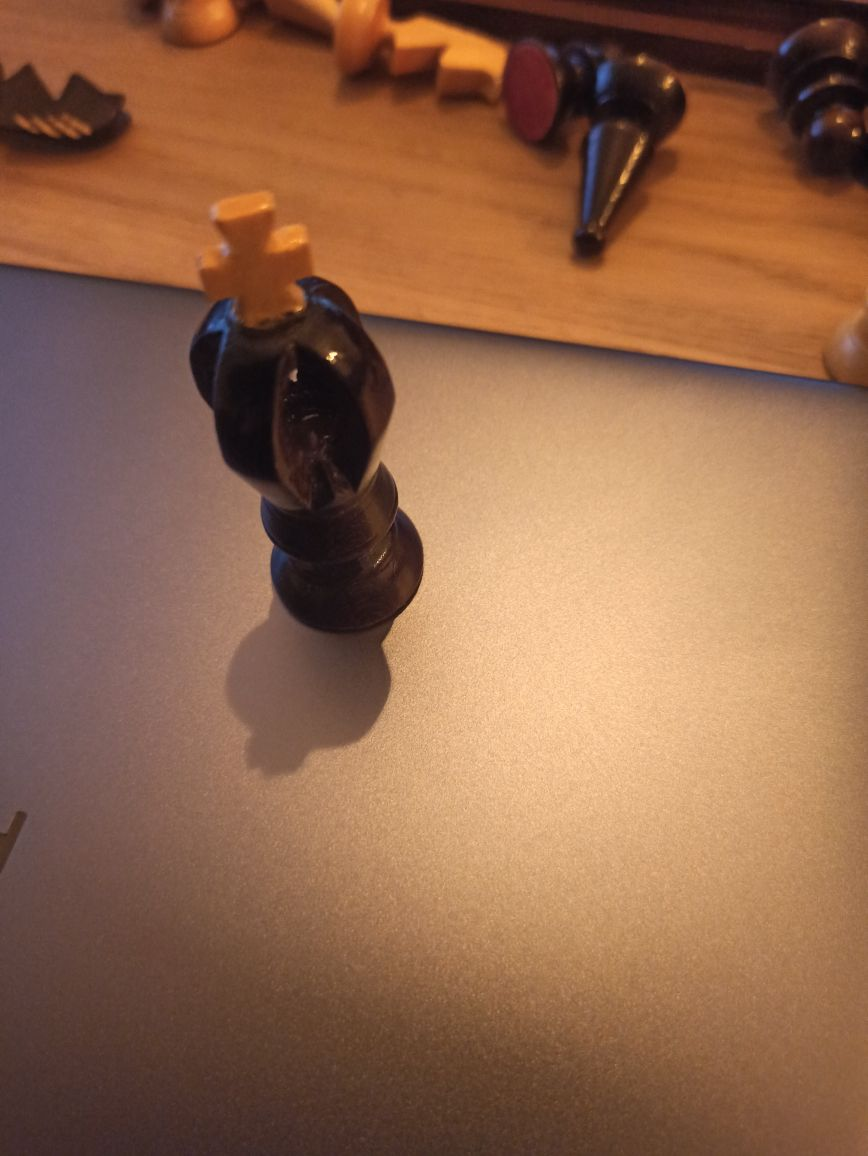bking: (189, 191, 428, 634)
